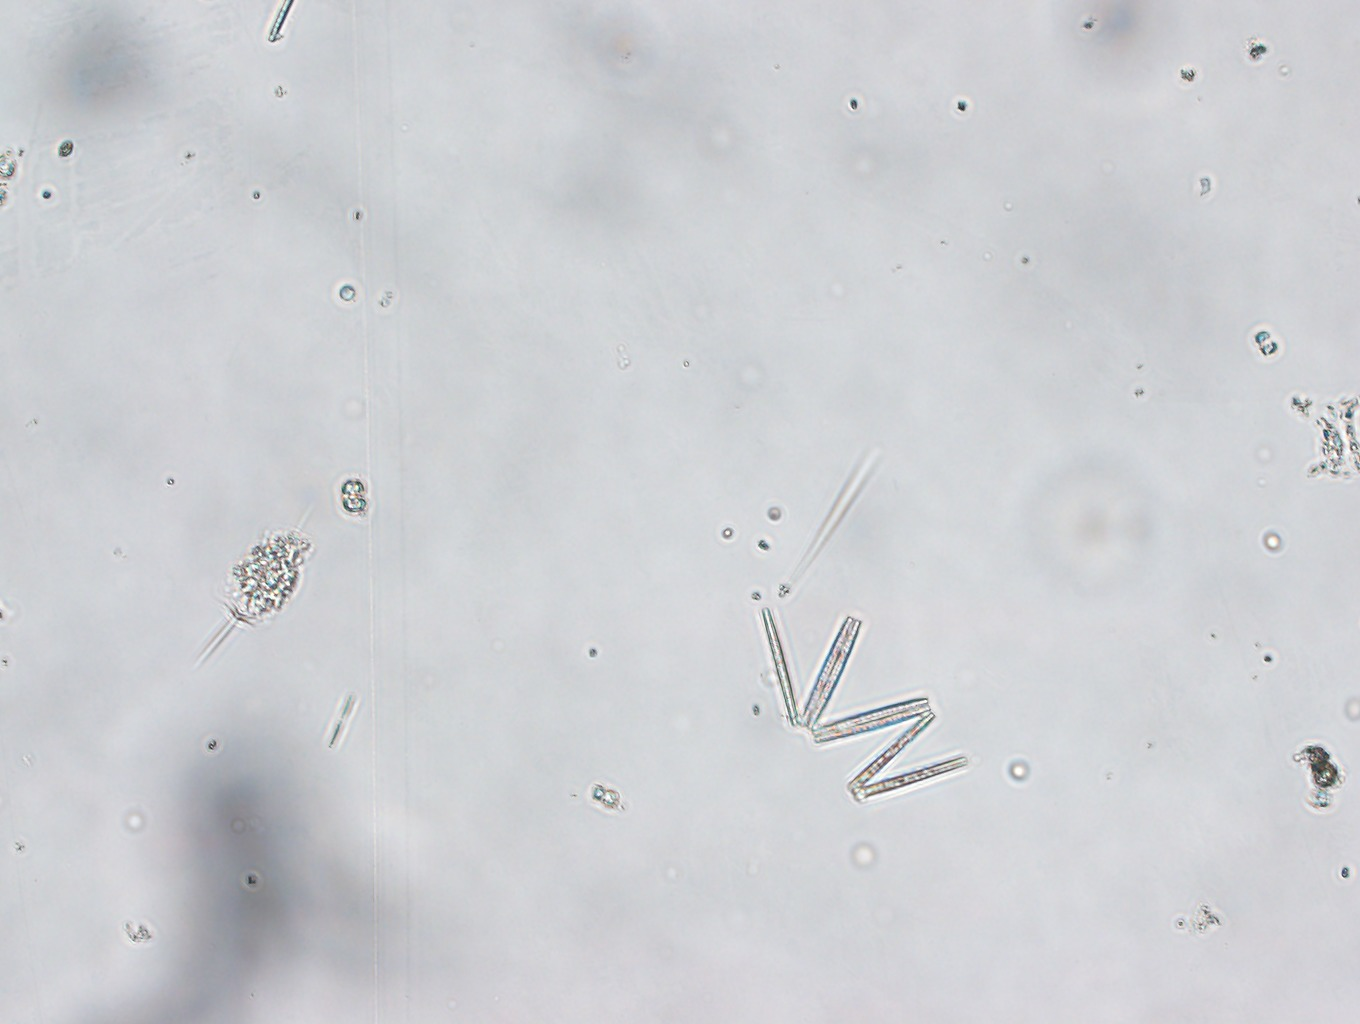thalassionema nitzschioides: (751, 603, 974, 807)
